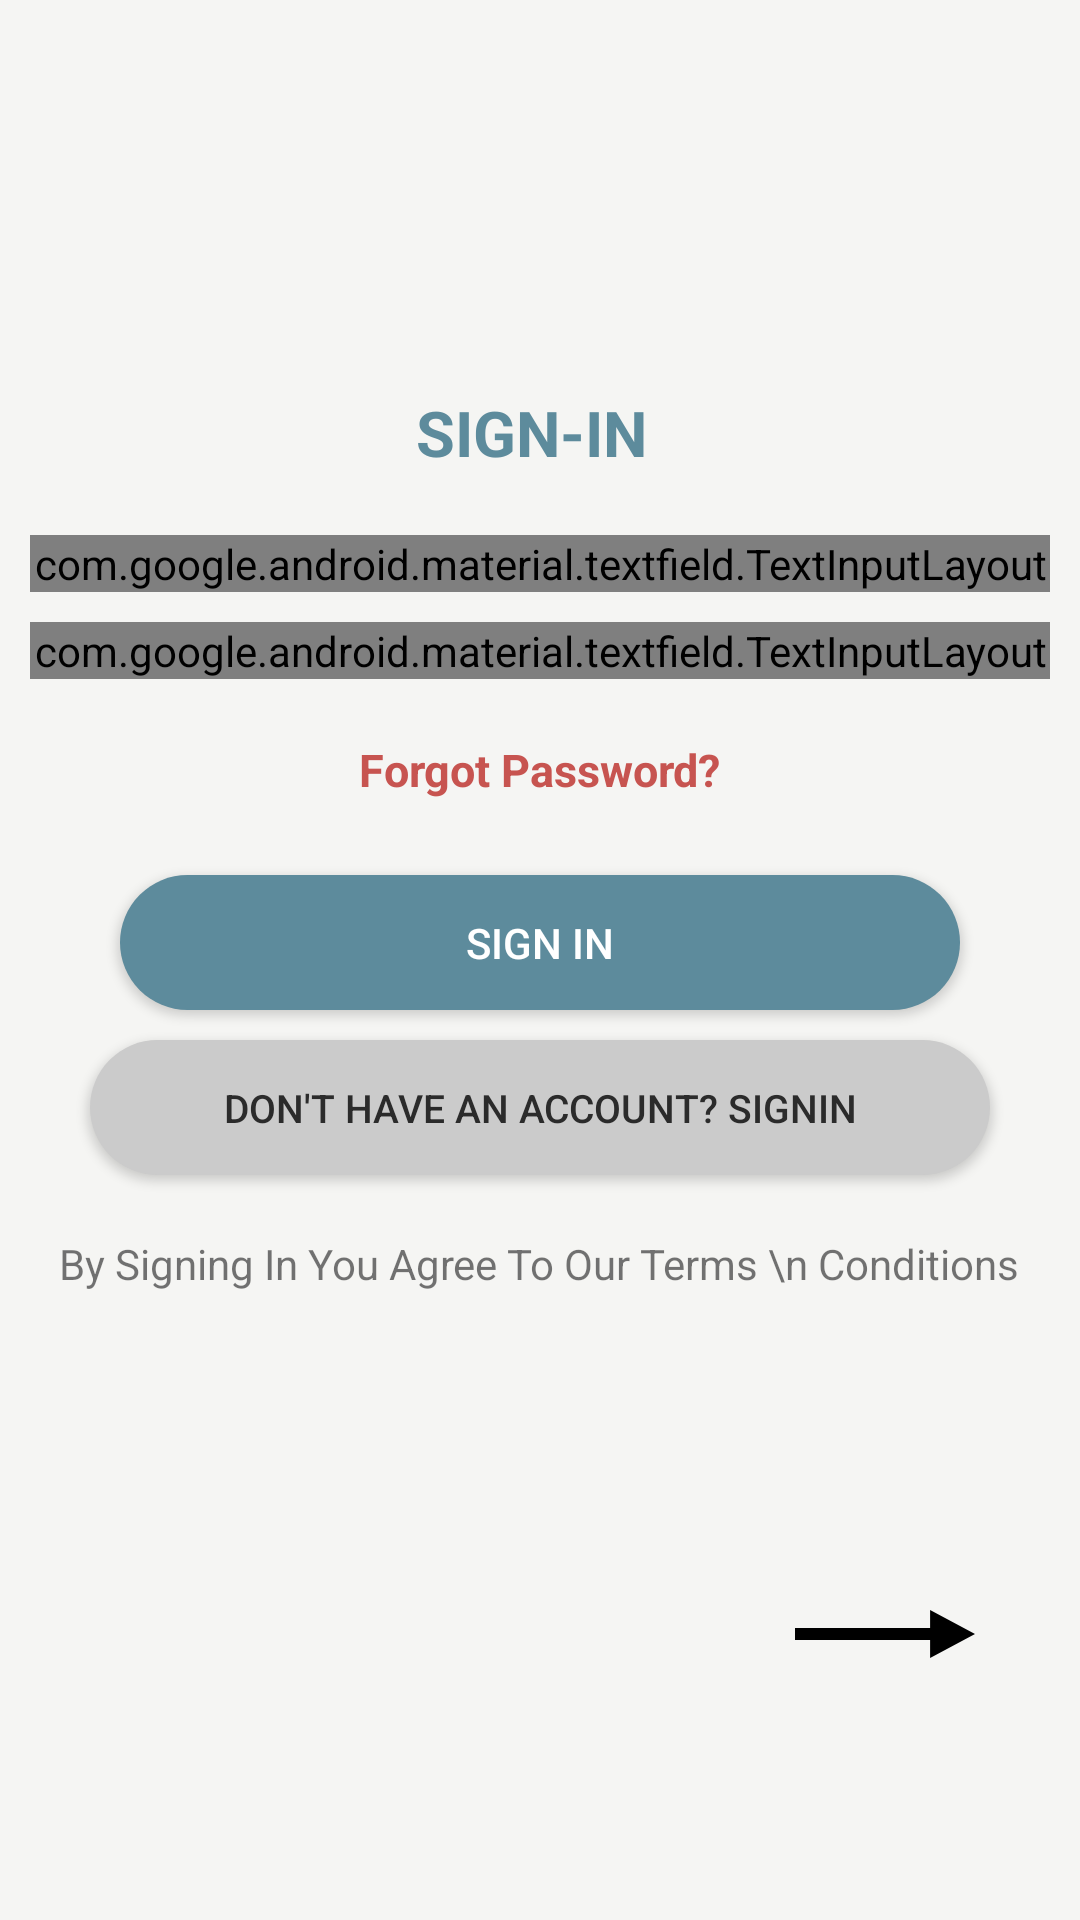

Named icons in this screenshot (1080 × 1920) and their centers, (x=x, y=y):
arrow right: (x=885, y=1634)
